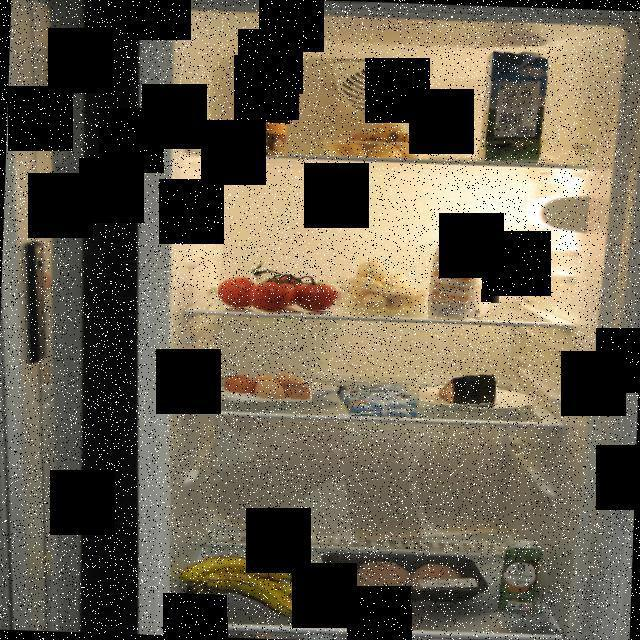banana: (175, 551, 305, 617)
cheese: (431, 374, 498, 410)
chicken_breast: (312, 547, 494, 604)
chocolate: (336, 386, 420, 418)
corn: (232, 113, 290, 156)
egg: (222, 362, 312, 402)
heavy_cream: (498, 538, 546, 614)
milk: (478, 46, 548, 165)
mushrooms: (340, 258, 428, 310)
potato: (318, 118, 434, 160)
sugar: (428, 228, 504, 320)
tomato: (218, 253, 346, 312)
